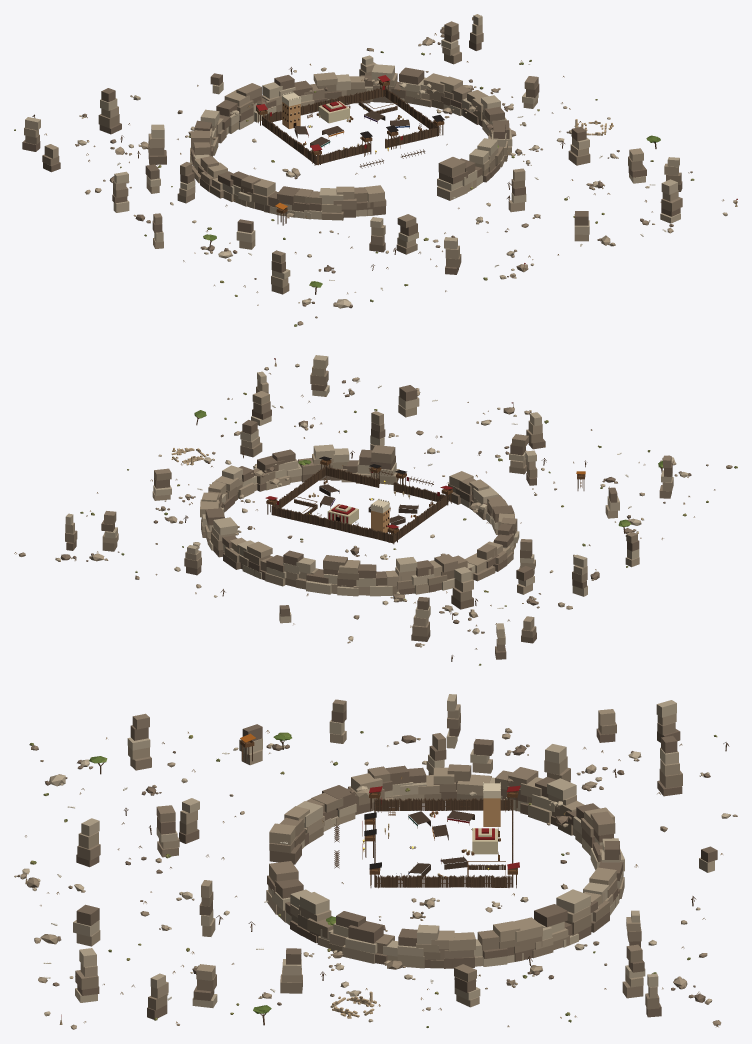
The model's file is town.glb.
3 views of the same model, one above another, from view 1: azimuth 30°, elevation 25°; view 2: azimuth 150°, elevation 25°; view 3: azimuth 270°, elevation 25° (orthographic). The views are drawn at different scales.
Parts seen in each view (by area): view 1: Town; view 2: Town; view 3: Town.
Part boxes in pixels (x1,y1,x2,y2): Town: (14,14,737,326); Town: (14,355,737,665); Town: (14,694,737,1029).
Bounding box in the file's own units: 205 × 25 × 210.
